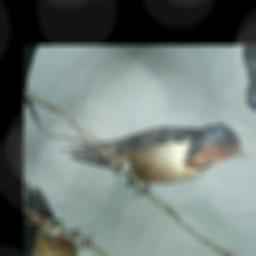Swallow: (40, 54, 256, 230)
